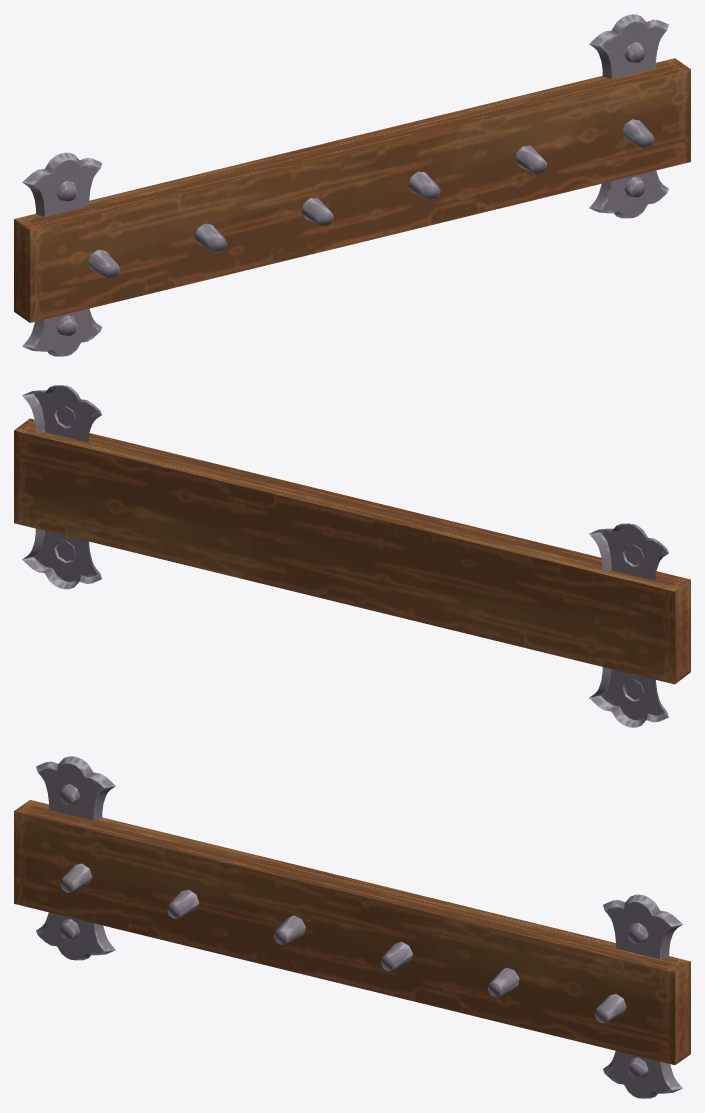
Rendered from Peg Rack.glb.
The picture shows the model from 3 angles, top to bottom: view 1: azimuth 30°, elevation 25°; view 2: azimuth 150°, elevation 25°; view 3: azimuth 330°, elevation 25°; orthographic projection.
Visible parts, largest first — view 1: Peg_Rack; view 2: Peg_Rack; view 3: Peg_Rack.
Boxes of the visible parts, x1,y1,x2,y2 form: Peg_Rack: (14,14,690,356); Peg_Rack: (14,385,690,727); Peg_Rack: (14,756,690,1098).
Bounding box in the file's own units: 1.18 × 0.3479 × 0.0957.
Materials: 2 (2 with a texture image).
